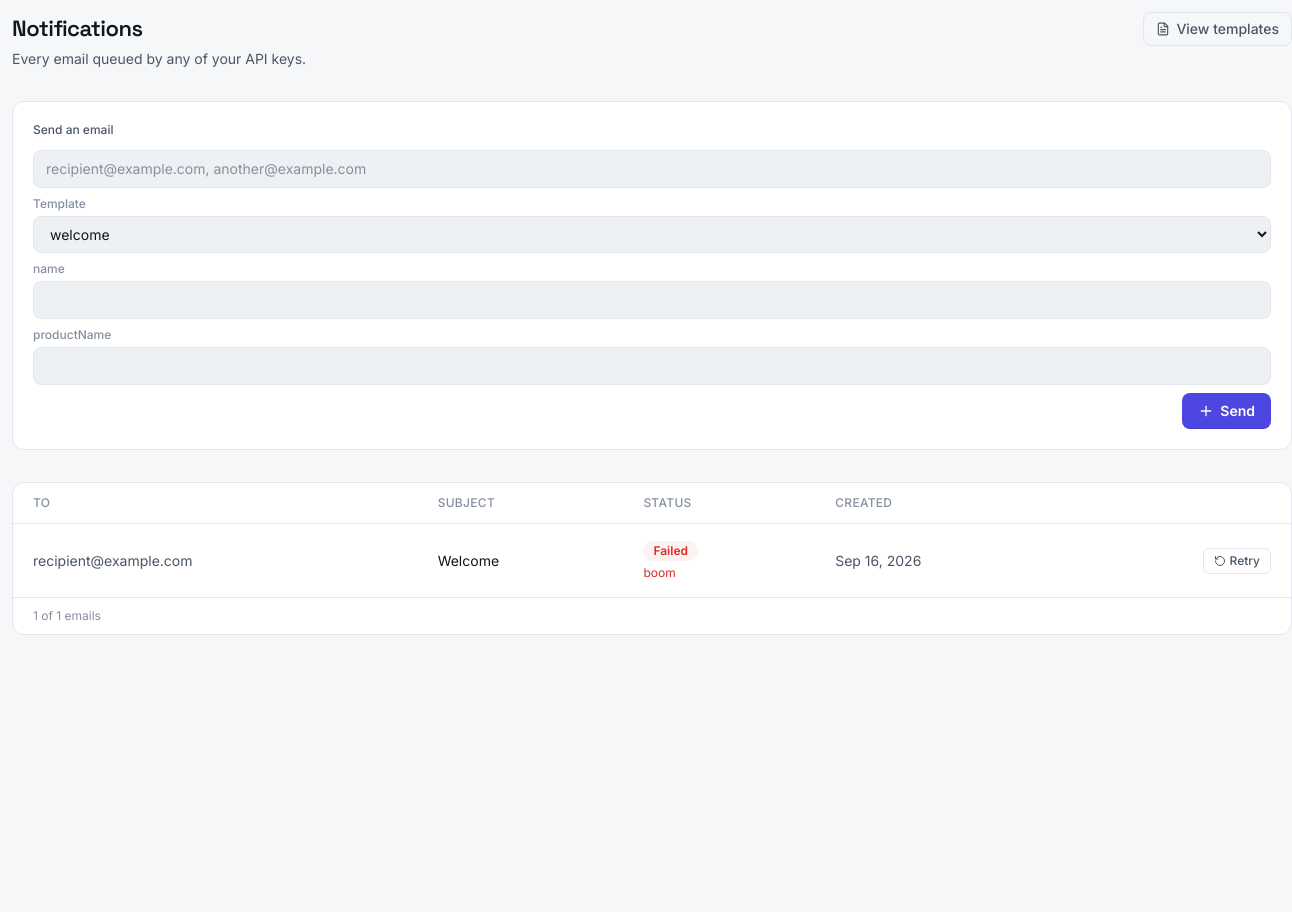
Test case: NotificationsPage › retries a FAILED job and refreshes the list on success
Click the button "Retry": coordinates (1237, 560) [1202,548,1271,574]
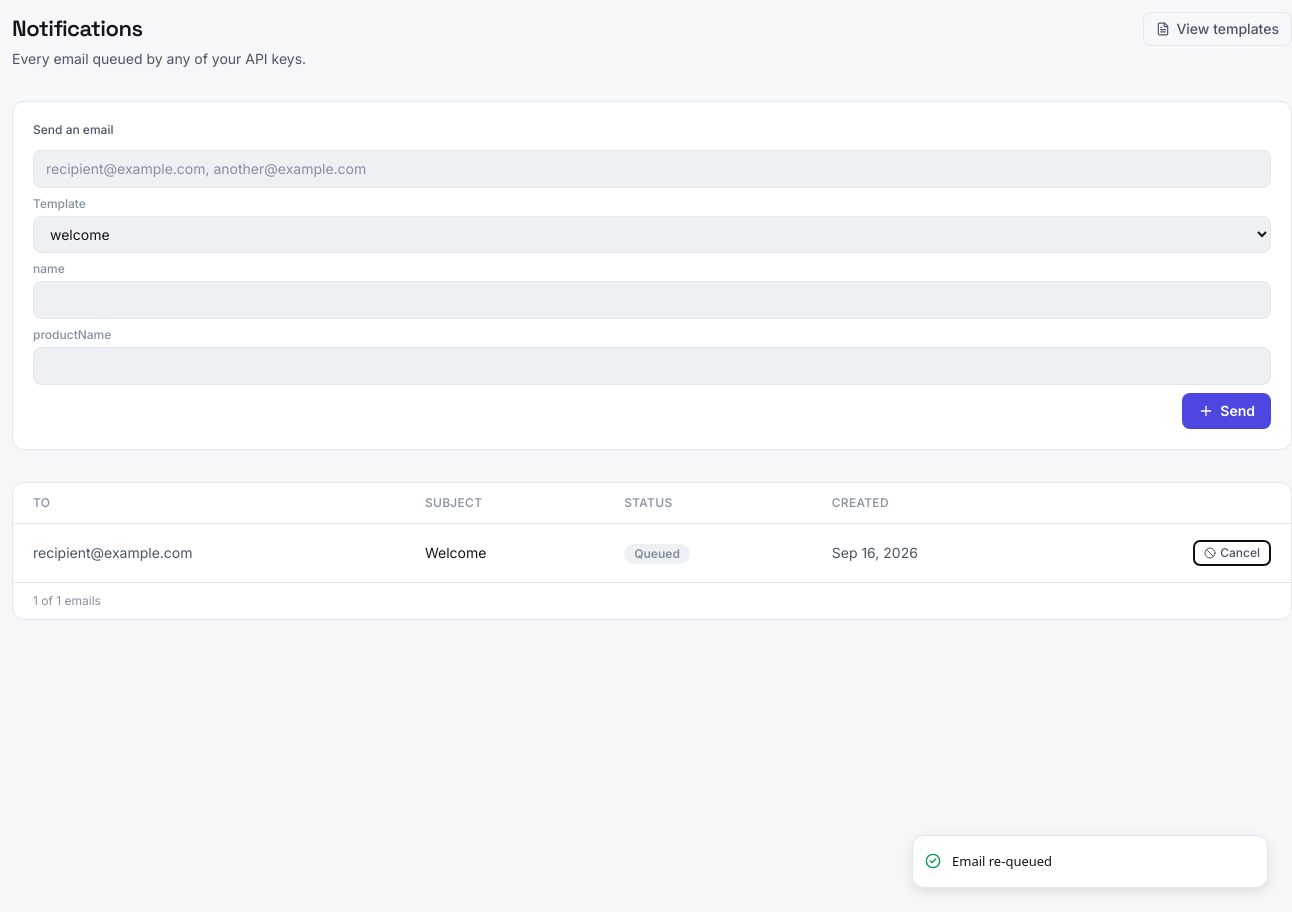
Expected: the text "Queued" is shown, [624,544,690,564]
